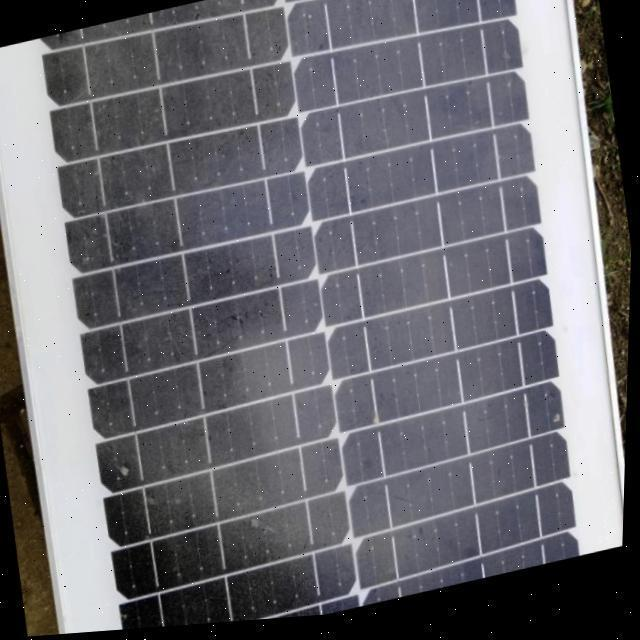Surface Contaminant: (25, 0, 606, 633)
